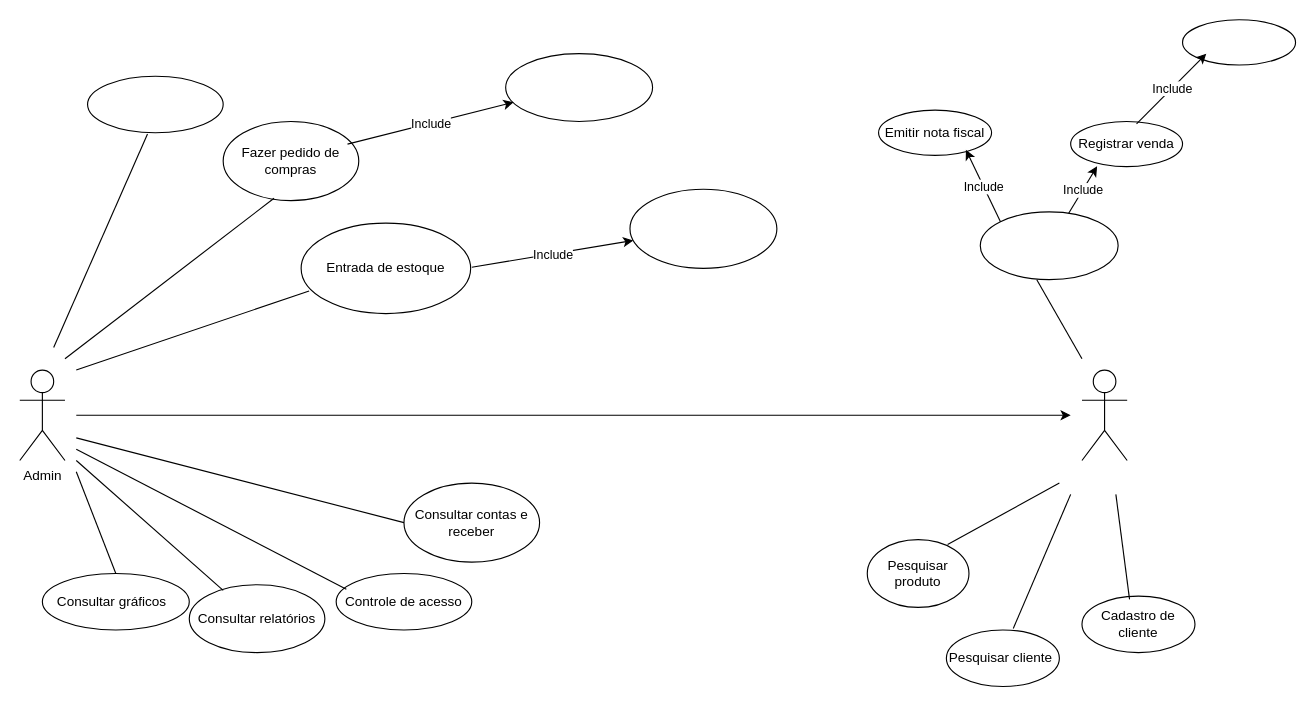
This 1315x706 diagram has some shape labels left out. Each missing label, with the centre of its shape:
Atendente: pixel 1104 414
Baixa no estoque: pixel 1238 42
Manter dados no sistema: pixel 154 104
Registro de entrada: pixel 703 228
Registro de pedidos: pixel 579 87
Vender produto: pixel 1048 245
